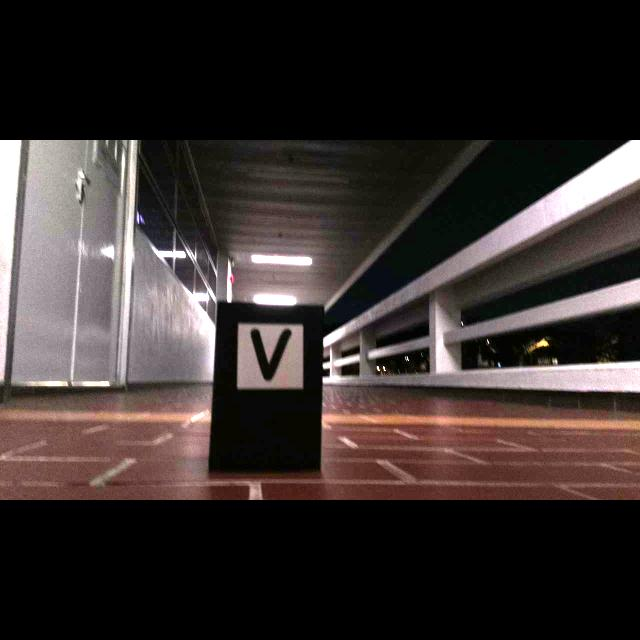V: (251, 327, 292, 379)
